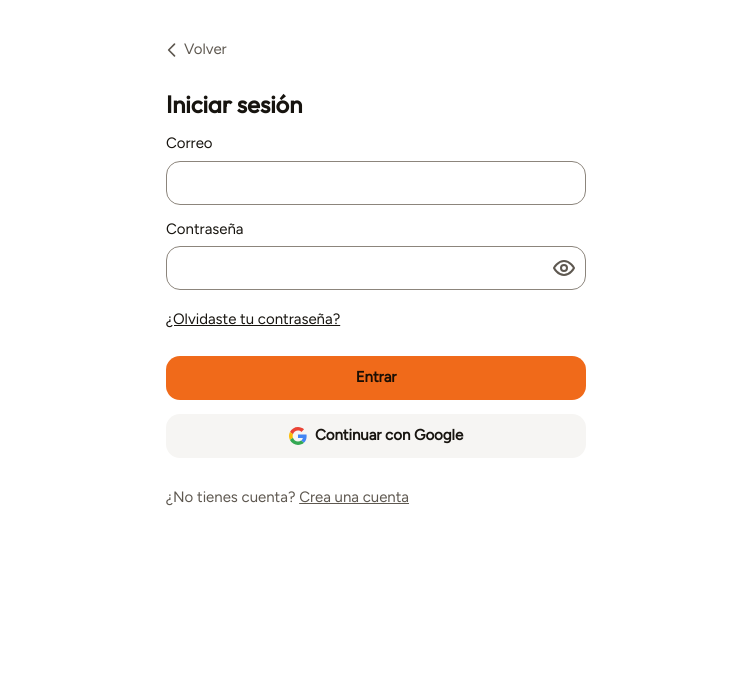
Test: iniciar sesión › con correo y contraseña inicia la sesión y vuelve a donde estaba
The width and height of the screenshot is (753, 688).
Type "ana@correo.co" into the field labelled "Correo" at coordinates (376, 182), box [166,160,586,204]
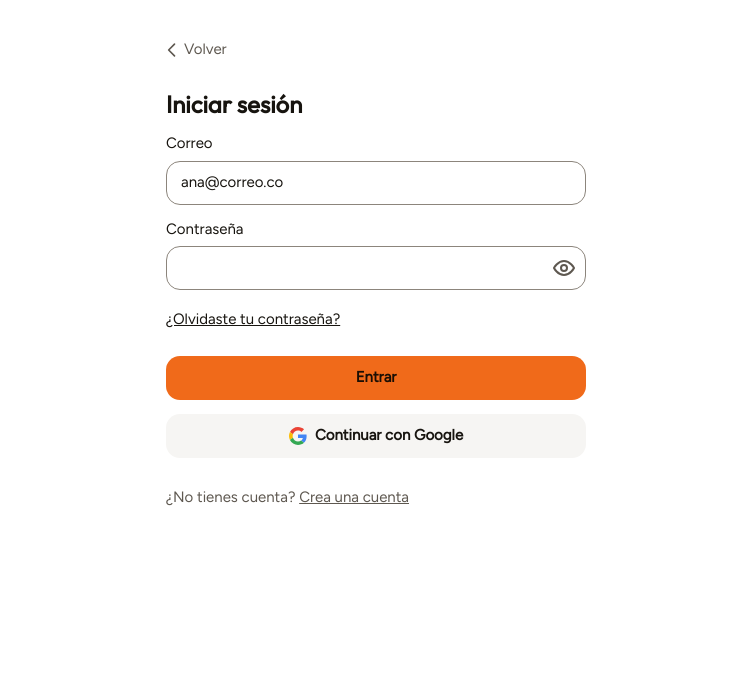
Type "una clave larga" into the password field labelled "Contraseña" at coordinates (376, 268), box [166,246,586,290]
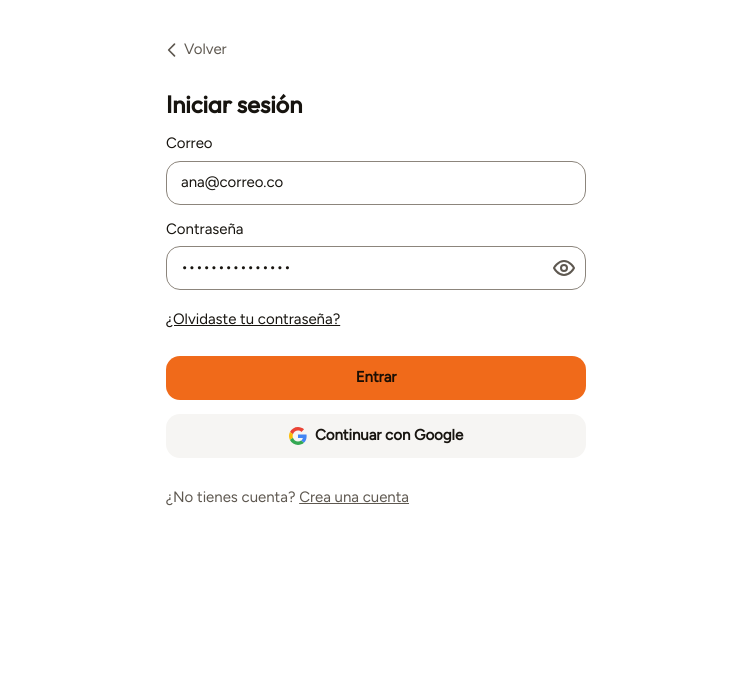
Click the button "Entrar" at coordinates (376, 378), box [166,356,586,400]
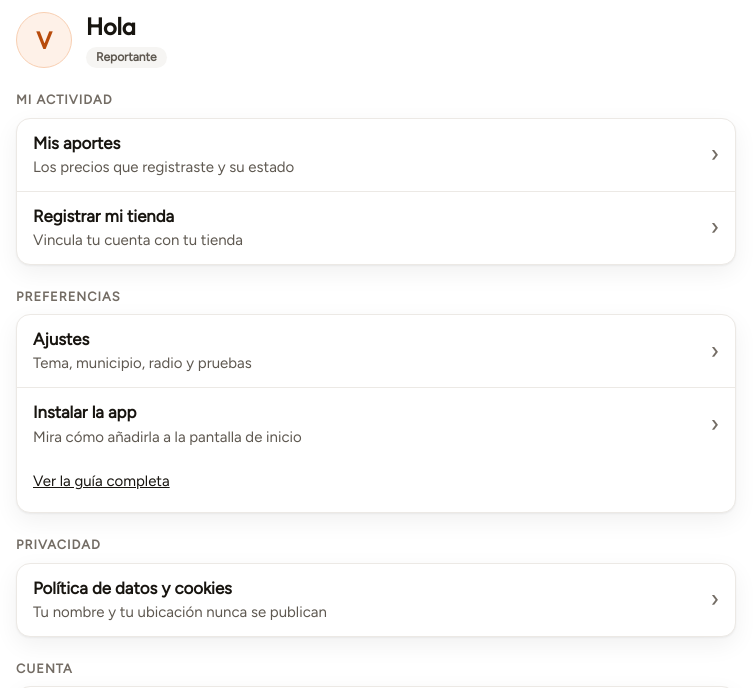
Check: the heading "Hola" is shown, box [86,12,136,41]
